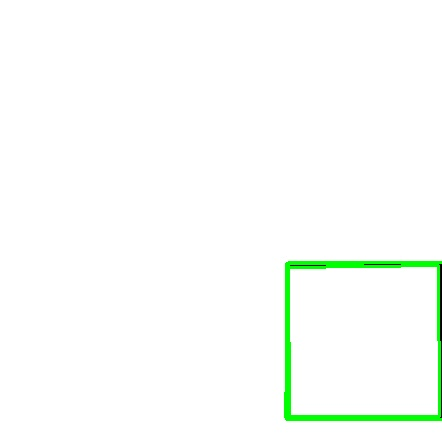line_segment: (285, 262, 442, 421), (288, 265, 440, 418)
